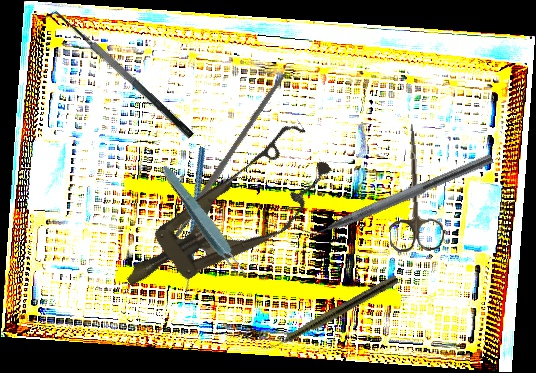Chopper: (293, 140, 494, 248), (138, 146, 257, 306)
Handpiece: (260, 272, 400, 358)
Iris Scissors: (382, 122, 445, 254)
Scalpel Handle: (158, 70, 289, 257)
Spatula Surgical: (42, 1, 196, 151)
Speculum: (103, 116, 346, 319)
Tissue Forceps: (156, 161, 252, 285)
